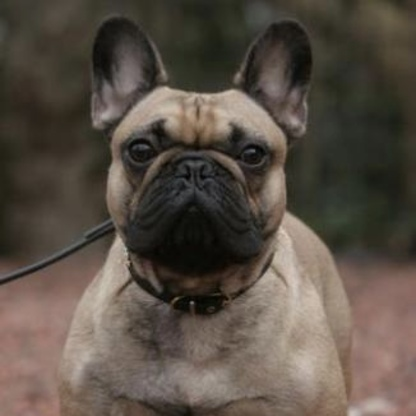bulldog: (60, 14, 370, 416)
